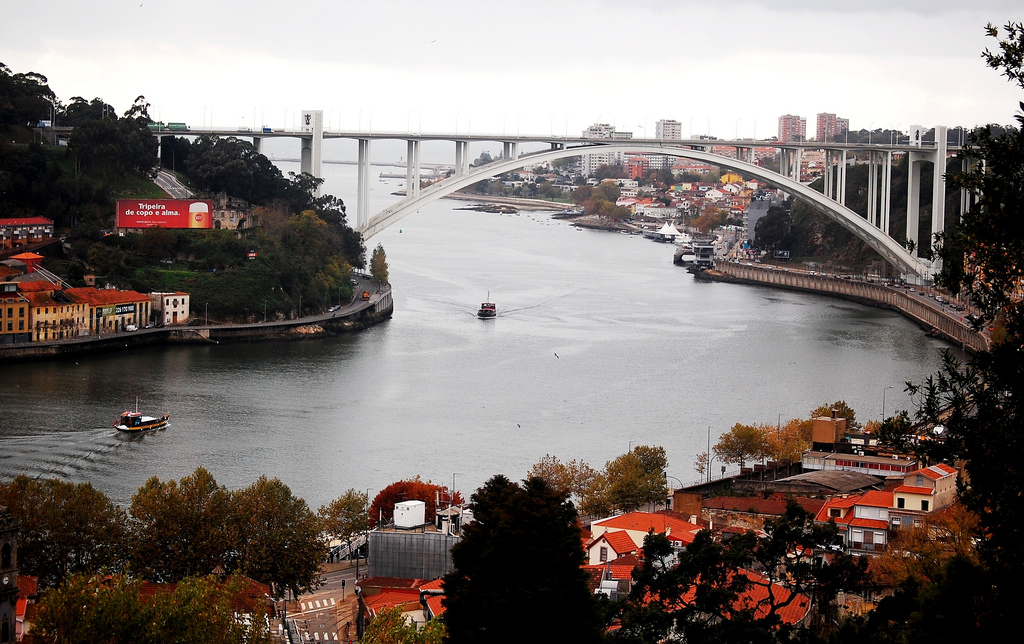arrabida: (152, 111, 983, 290)
